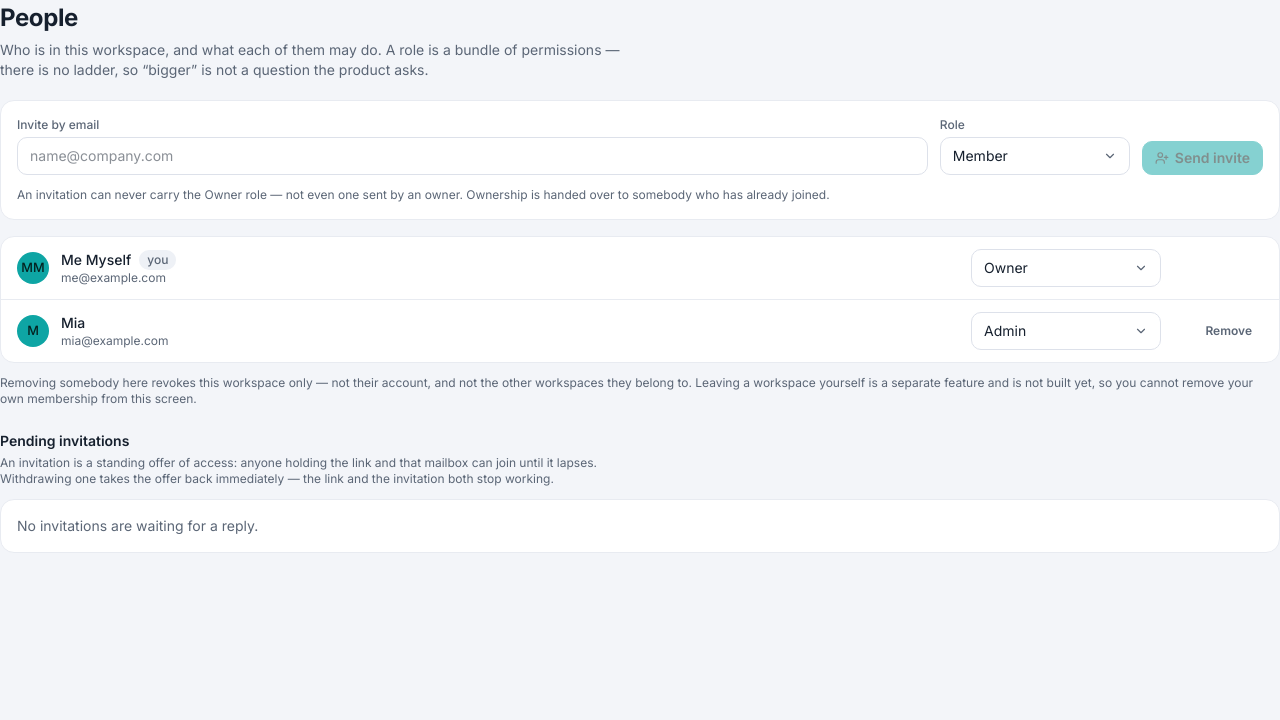
WorkspacePeoplePage — removal, and the three refusals › removes with the flag OFF first, and closes on a 204
The width and height of the screenshot is (1280, 720).
Expected: the text "Mia" is shown, [61, 313, 85, 333]
Click the button "Remove" at (1229, 331), box [1194, 318, 1263, 344]
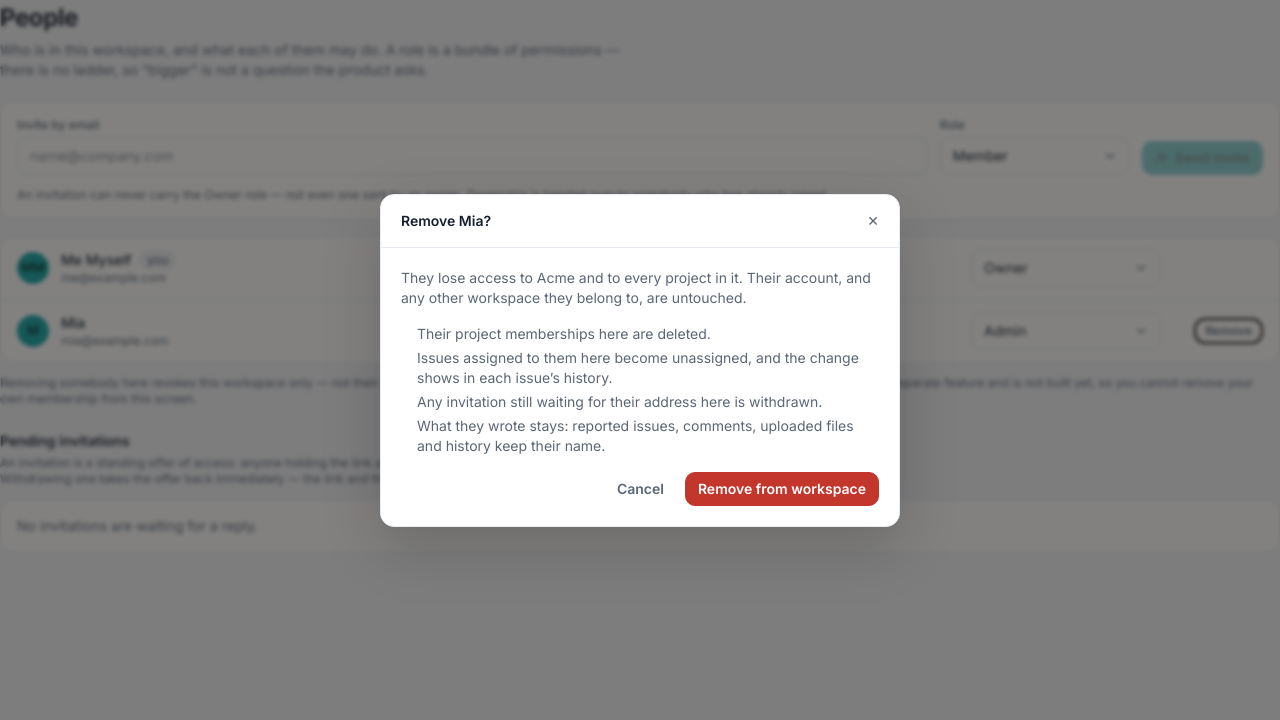
Expected: the button "Remove from workspace" is shown
Click the button "Remove from workspace" at (782, 488), box [685, 472, 879, 506]
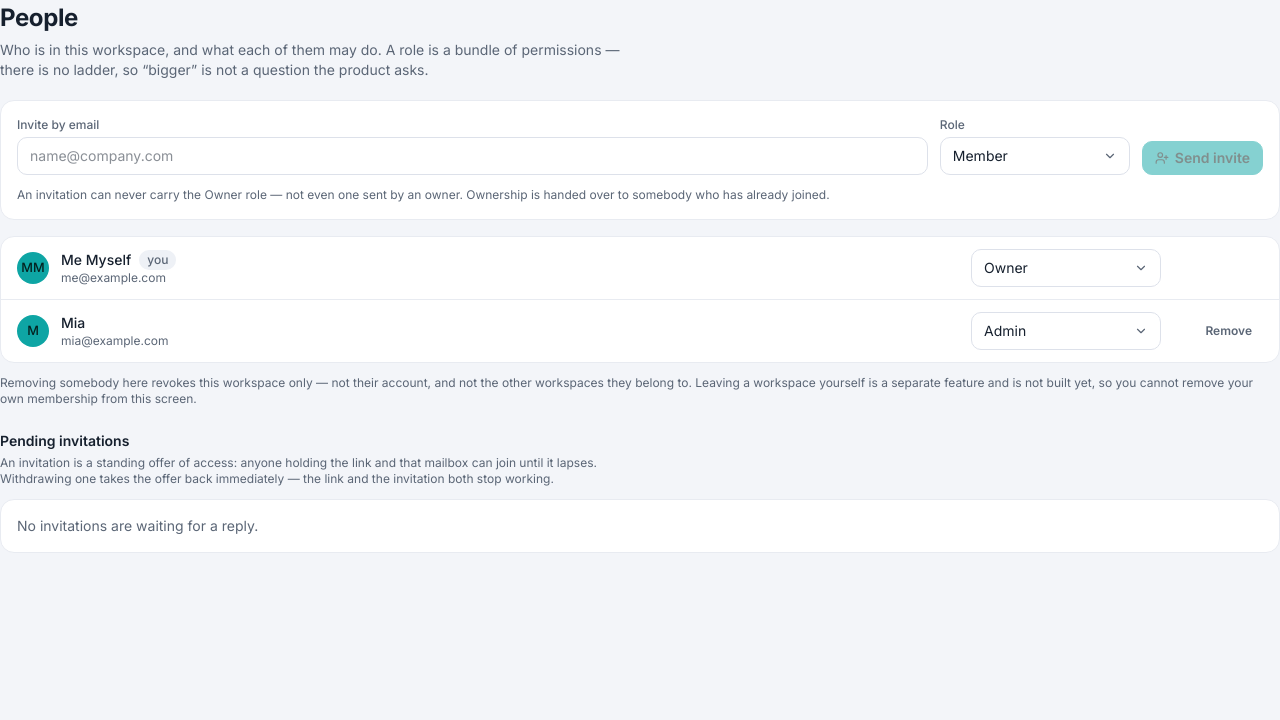
Expected: the dialog is gone
